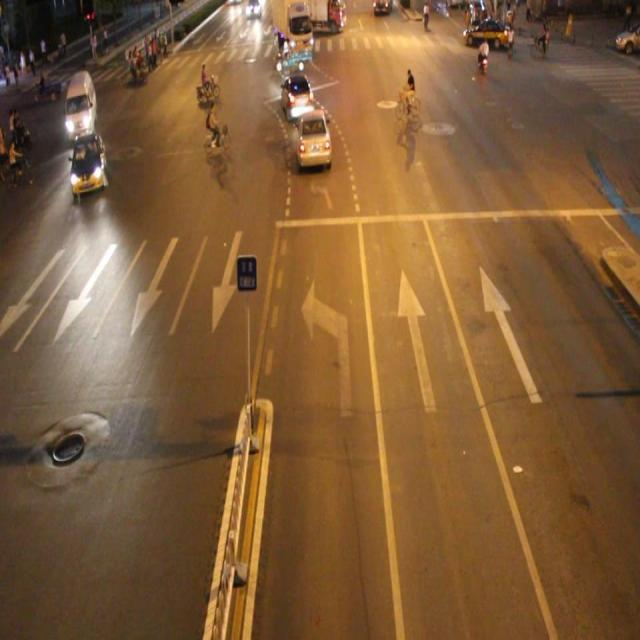car: (293, 108, 332, 171), (70, 131, 107, 196), (278, 70, 315, 121)
truck: (64, 71, 98, 139)
